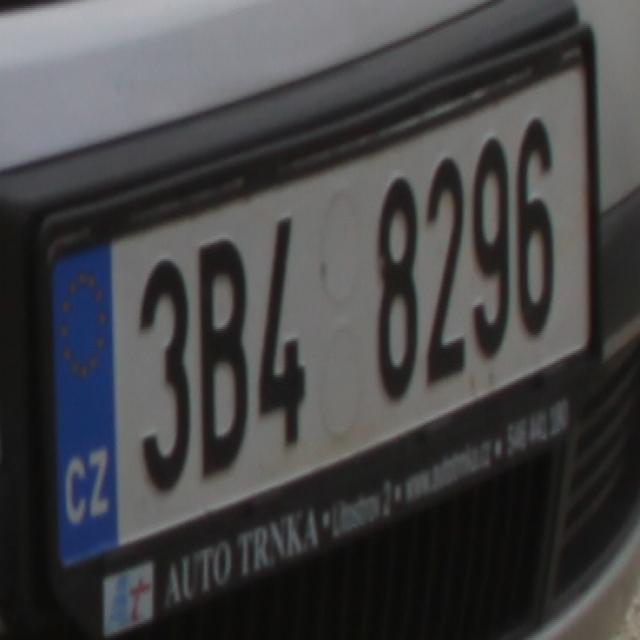2: (424, 153, 468, 383)
3: (136, 255, 190, 480)
4: (259, 217, 309, 443)
6: (514, 112, 556, 334)
8: (376, 169, 421, 399)
9: (472, 137, 512, 355)
B: (194, 234, 253, 478)
